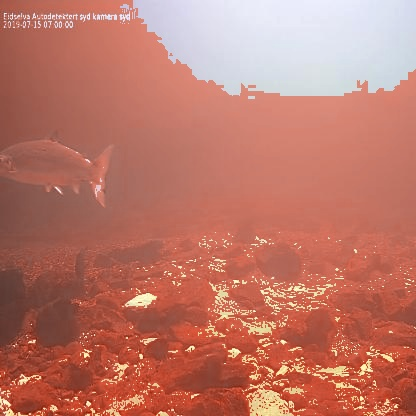salmon: (0, 126, 116, 209)
